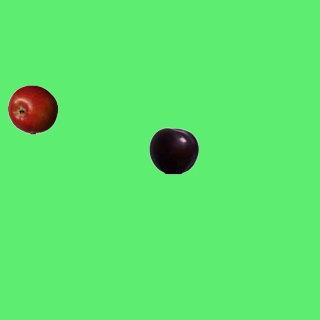Apple Braeburn: (7, 84, 57, 134)
Cherry Wax Black: (148, 125, 198, 175)
